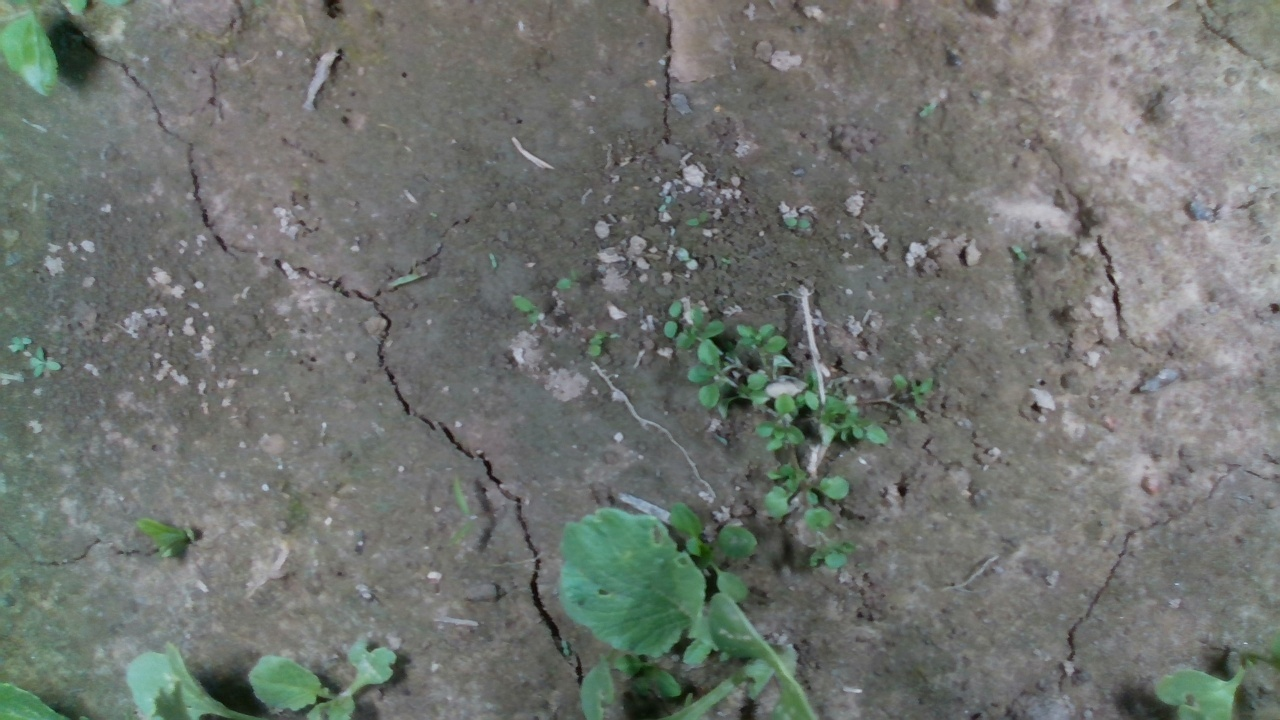weed: (585, 327, 606, 357), (684, 207, 711, 227), (783, 216, 812, 231), (1009, 243, 1027, 261)
